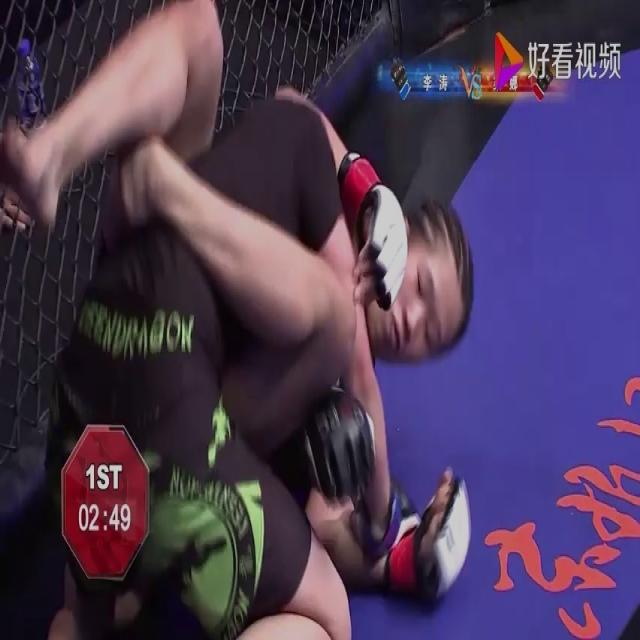fight: (1, 0, 482, 639)
